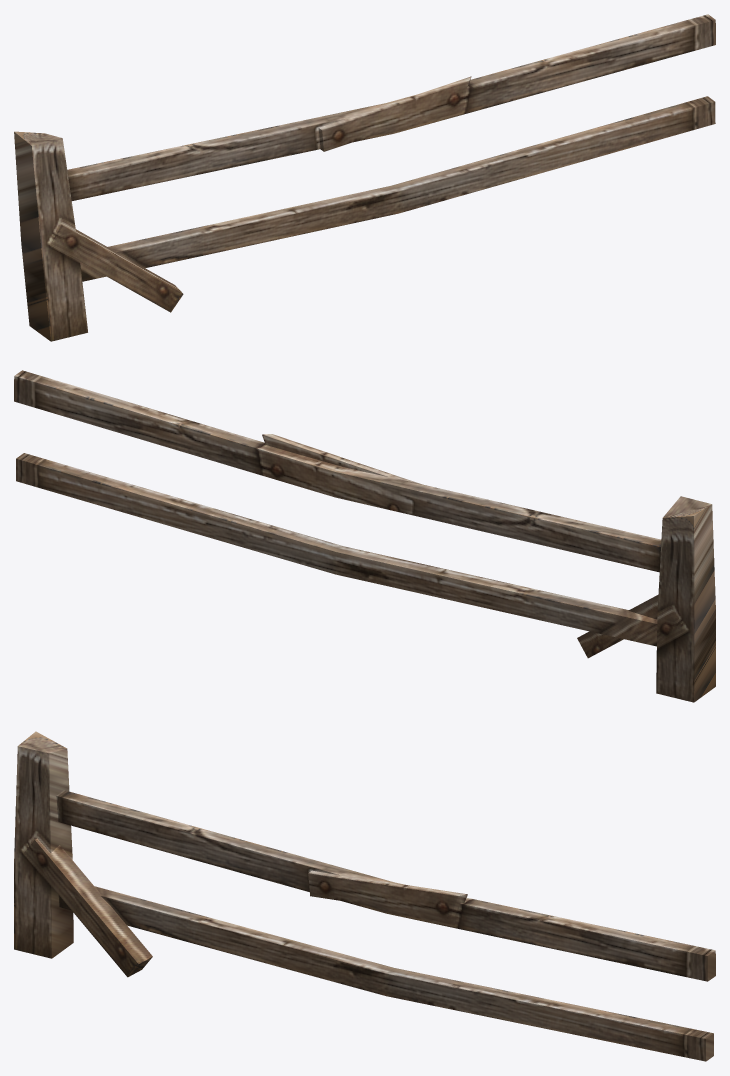
Rendered from start_fence_13.glb.
3 views of the same model, one above another, from view 1: azimuth 30°, elevation 25°; view 2: azimuth 150°, elevation 25°; view 3: azimuth 330°, elevation 25° (orthographic).
Parts seen in each view (by area): view 1: start_fence_13_game; view 2: start_fence_13_game; view 3: start_fence_13_game.
Part boxes in pixels (x1,y1,x2,y2): start_fence_13_game: (14,14,715,341); start_fence_13_game: (14,370,715,702); start_fence_13_game: (14,731,715,1061).
Size of the model in its own units: 4.83 by 1.29 by 0.4227.
1 material, 1 textured.
